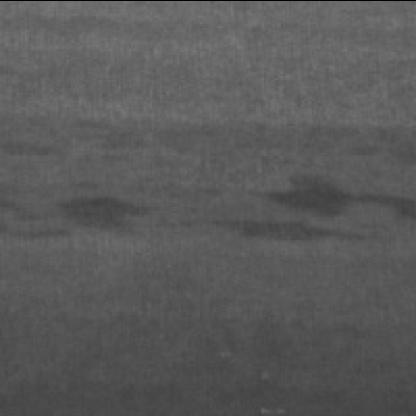inclusion: (158, 177, 412, 247), (0, 194, 185, 254)
